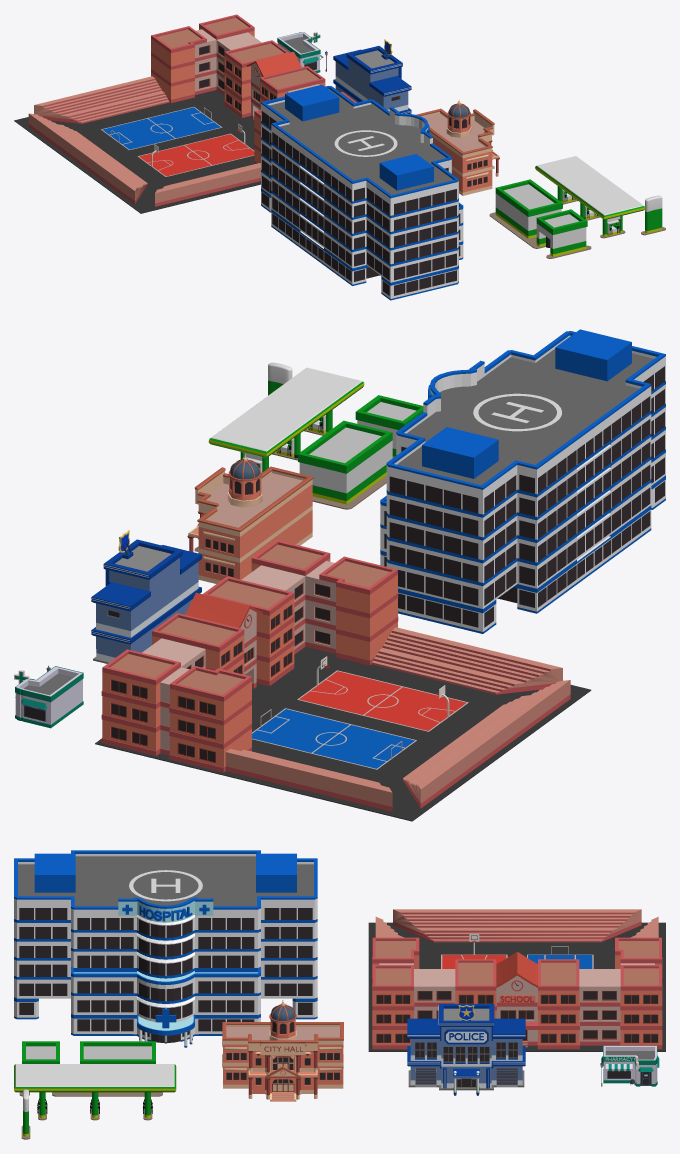
File: low_poly_public_buildings_pack.glb
3 views of the same model, one above another, from view 1: azimuth 30°, elevation 25°; view 2: azimuth 150°, elevation 25°; view 3: azimuth 270°, elevation 25° (orthographic). The views are drawn at different scales.
Parts seen in each view (by area): view 1: PublicBuilding_Hospital, PublicBuilding_School, PublicBuilding_GasStation, PublicBuilding_CityHall, PublicBuilding_Police, PublicBuilding_Pharmacy; view 2: PublicBuilding_School, PublicBuilding_Hospital, PublicBuilding_GasStation, PublicBuilding_CityHall, PublicBuilding_Police, PublicBuilding_Pharmacy; view 3: PublicBuilding_Hospital, PublicBuilding_School, PublicBuilding_Police, PublicBuilding_CityHall, PublicBuilding_GasStation, PublicBuilding_Pharmacy.
Part boxes in pixels (left/top/right/bottom): PublicBuilding_Hospital: left=261, top=84, right=463, bottom=300; PublicBuilding_School: left=14, top=14, right=356, bottom=213; PublicBuilding_GasStation: left=489, top=156, right=665, bottom=258; PublicBuilding_CityHall: left=416, top=99, right=499, bottom=195; PublicBuilding_Police: left=333, top=39, right=411, bottom=113; PublicBuilding_Pharmacy: left=277, top=31, right=323, bottom=72; PublicBuilding_School: left=95, top=540, right=591, bottom=821; PublicBuilding_Hospital: left=380, top=329, right=665, bottom=633; PublicBuilding_GasStation: left=208, top=362, right=423, bottom=509; PublicBuilding_CityHall: left=187, top=454, right=313, bottom=583; PublicBuilding_Police: left=91, top=530, right=201, bottom=663; PublicBuilding_Pharmacy: left=14, top=666, right=83, bottom=728; PublicBuilding_Hospital: left=14, top=850, right=317, bottom=1047; PublicBuilding_School: left=368, top=909, right=665, bottom=1051; PublicBuilding_Police: left=407, top=1004, right=525, bottom=1095; PublicBuilding_CityHall: left=222, top=1000, right=343, bottom=1101; PublicBuilding_GasStation: left=14, top=1041, right=176, bottom=1139; PublicBuilding_Pharmacy: left=601, top=1045, right=659, bottom=1086.
Size of what is drawn, in the model's own units: 38.85 by 11.27 by 49.49.
1 material, 1 textured.
